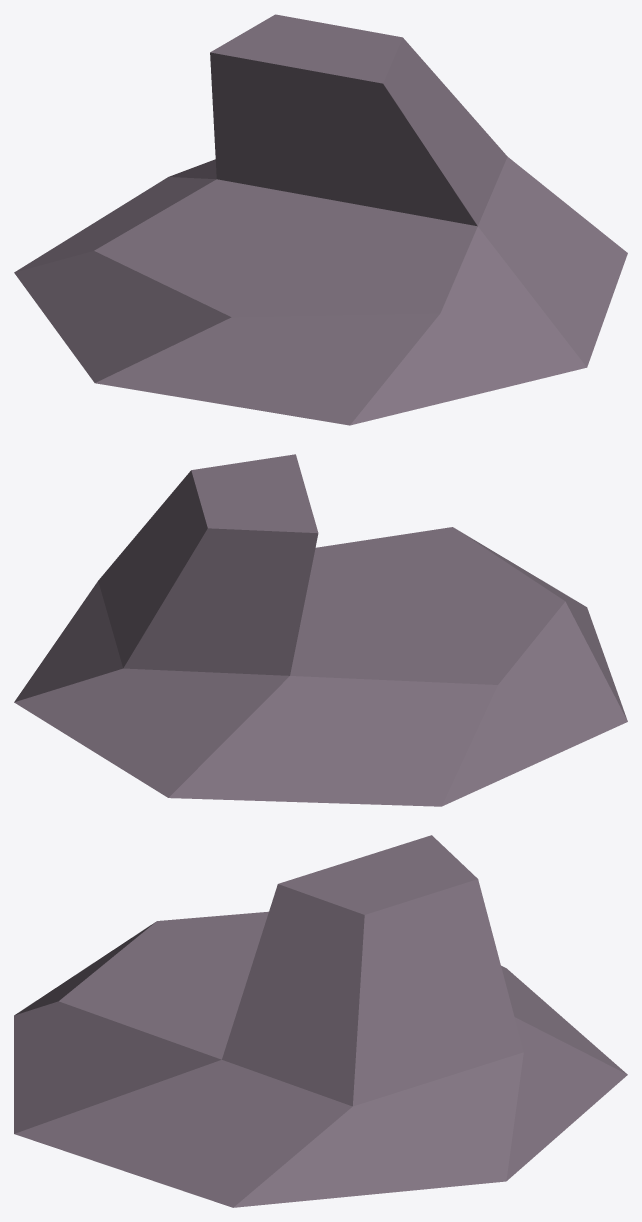
The model's file is Rock_v19.fbx.
3 renders of one model, top to bottom at view 1: azimuth 30°, elevation 25°; view 2: azimuth 150°, elevation 25°; view 3: azimuth 270°, elevation 25°, orthographic. The views are drawn at different scales.
Parts seen in each view (by area): view 1: Rock_v19; view 2: Rock_v19; view 3: Rock_v19.
Part boxes in pixels (<box>): Rock_v19: <box>14,14,627,425</box>; Rock_v19: <box>14,454,627,806</box>; Rock_v19: <box>14,835,627,1207</box>.
Bounding box in the file's own units: 41.53 × 15.47 × 40.49.
1 material, 1 textured.
